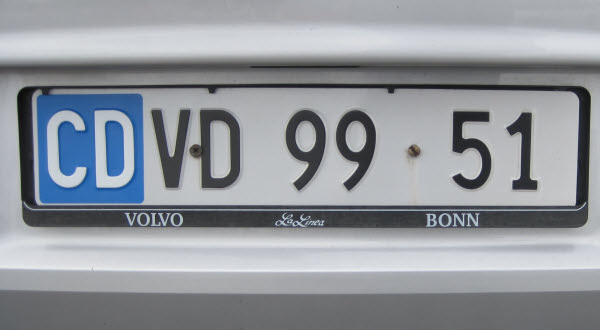license_plate: (32, 83, 579, 206)
